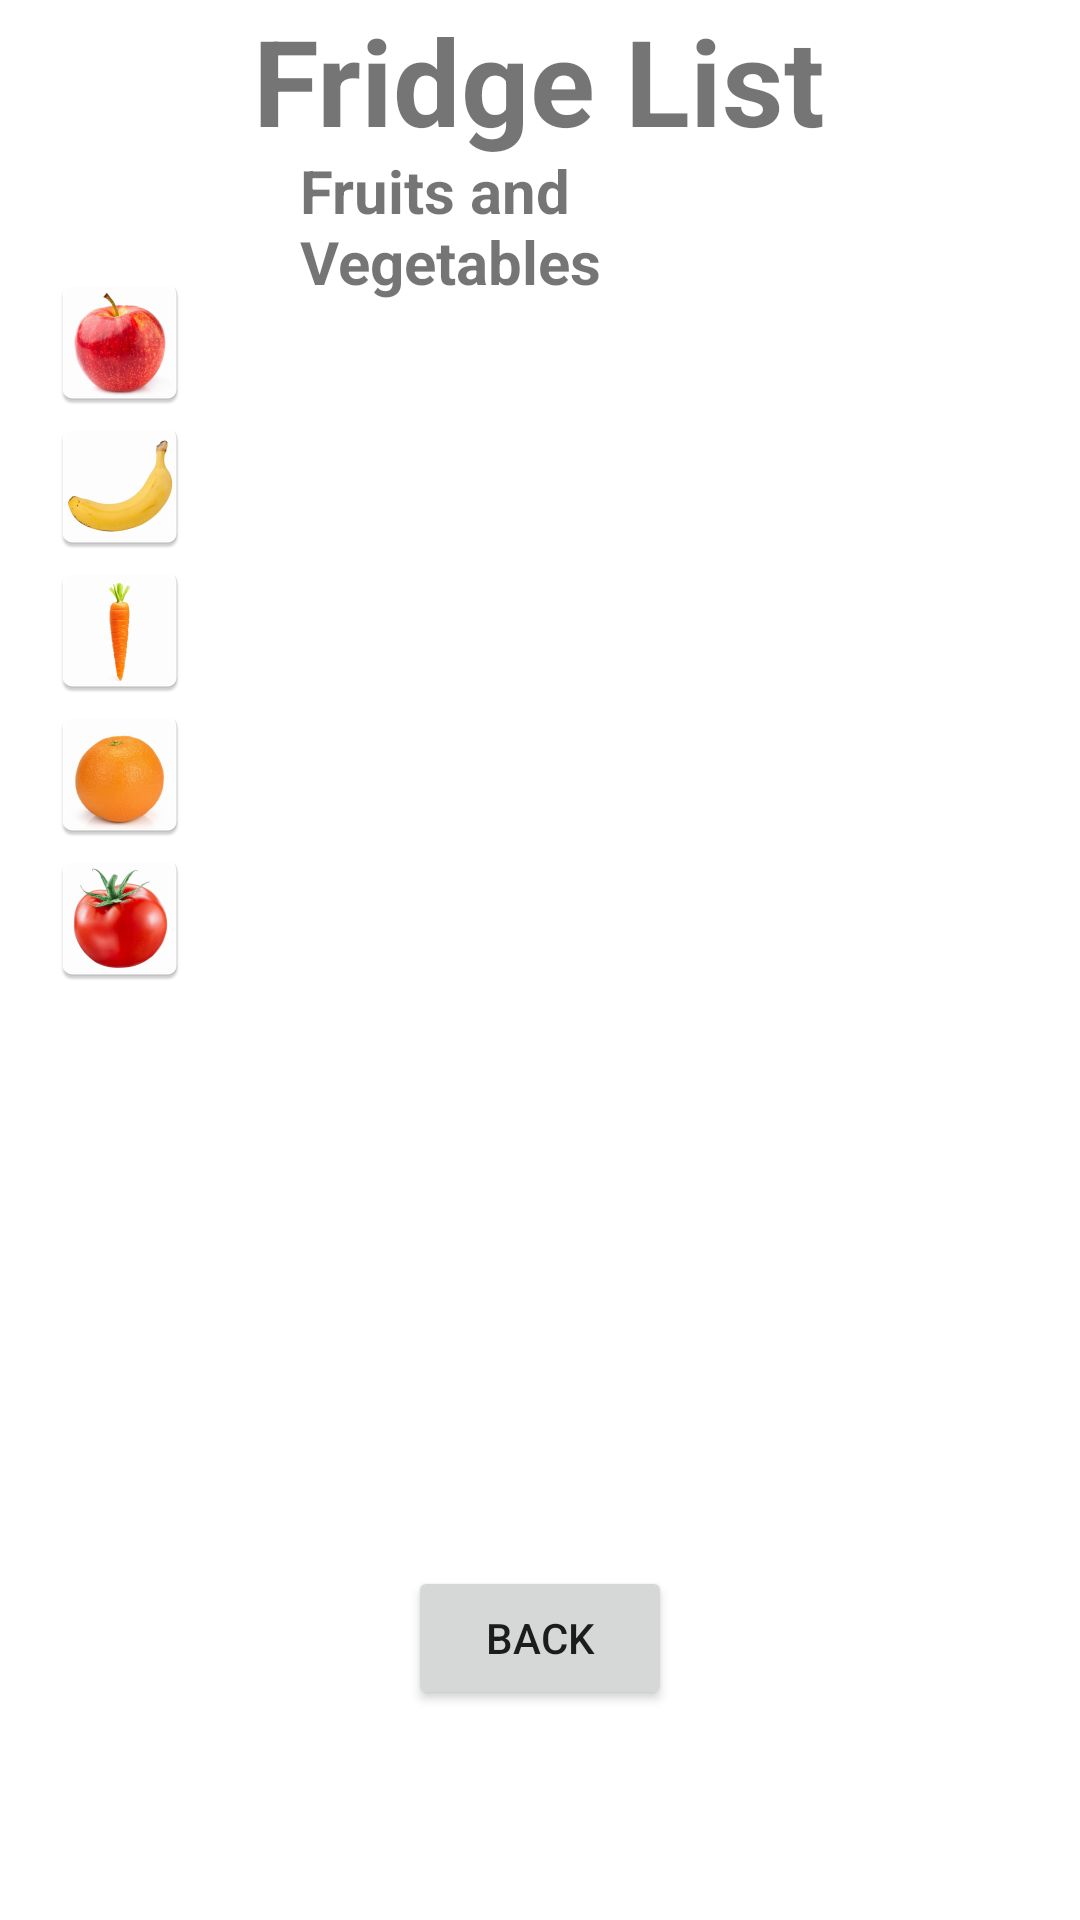

Icon bounding boxes for this 1080px×1920px phone screenshot, format (x1, y1, x2, y2):
apple: (63, 291, 178, 403)
banana: (63, 435, 178, 547)
carrot: (63, 579, 178, 691)
tomato: (63, 867, 178, 979)
